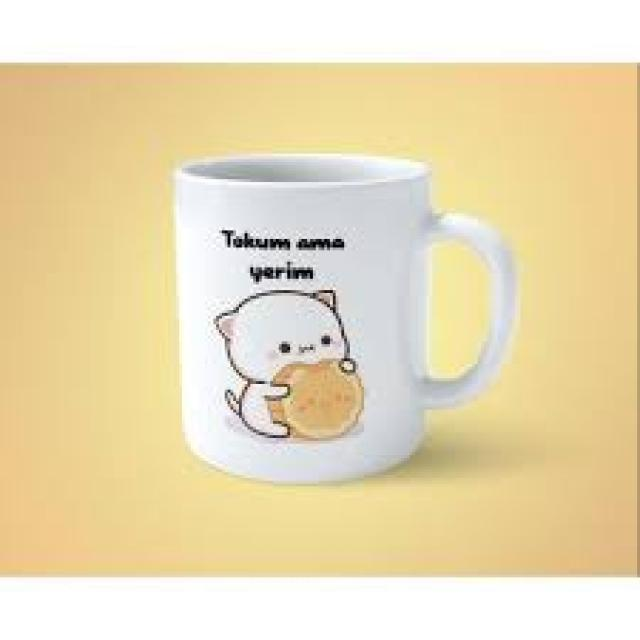taza: (173, 151, 519, 487)
